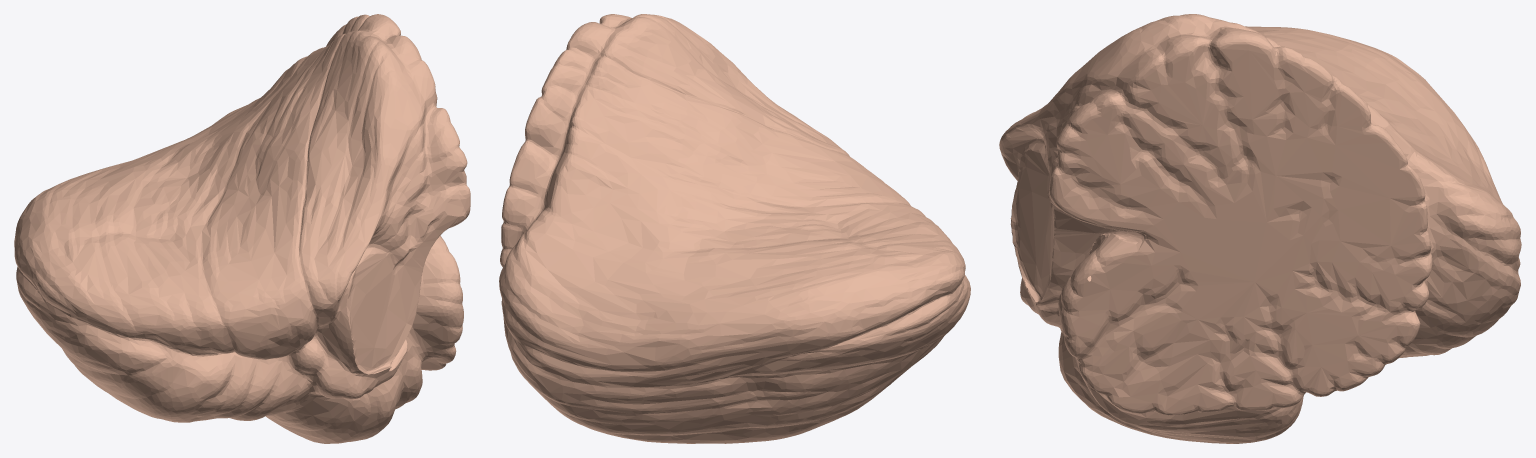
Rendered from cervelletto_interno.glb.
3 renders of one model, left to right at view 1: azimuth 30°, elevation 25°; view 2: azimuth 150°, elevation 25°; view 3: azimuth 270°, elevation 25°, orthographic. The views are drawn at different scales.
Visible parts, largest first — view 1: cerebellum; view 2: cerebellum; view 3: cerebellum.
Part boxes in pixels (x1,y1,x2,y2): cerebellum: (14,14,470,443); cerebellum: (499,14,970,443); cerebellum: (999,14,1521,443).
Size of the model in its own units: 53.27 by 53.26 by 56.29.
